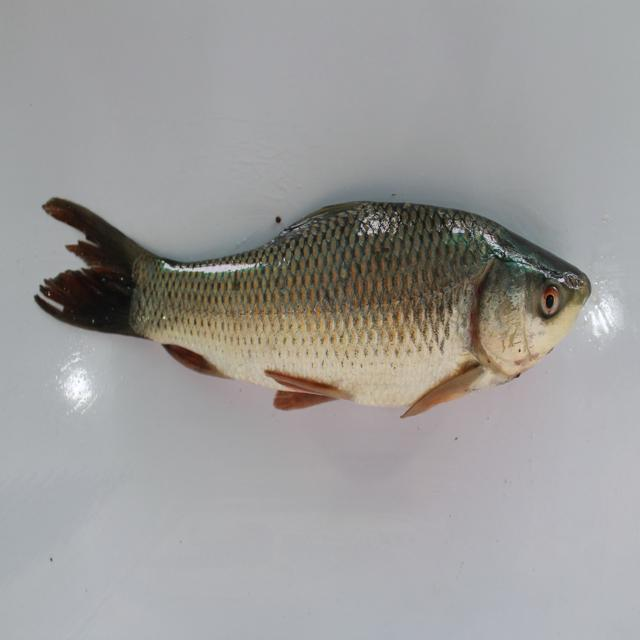Rohu: (33, 174, 596, 435)
